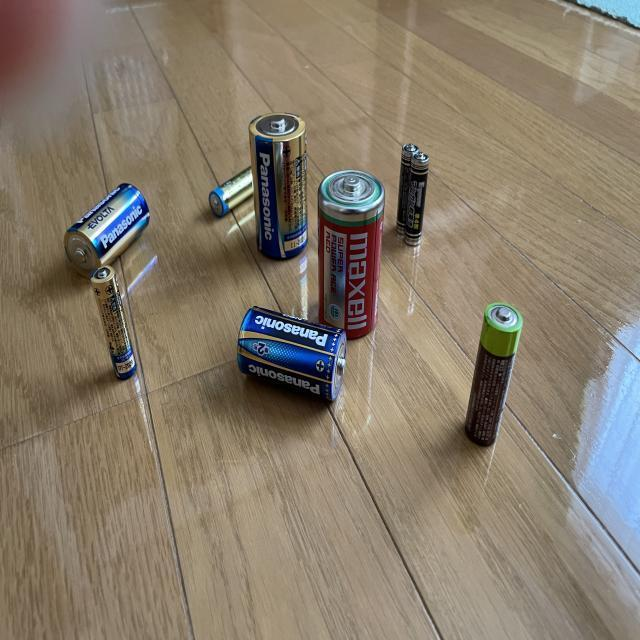AAA: (460, 298, 526, 450), (88, 260, 144, 386)
